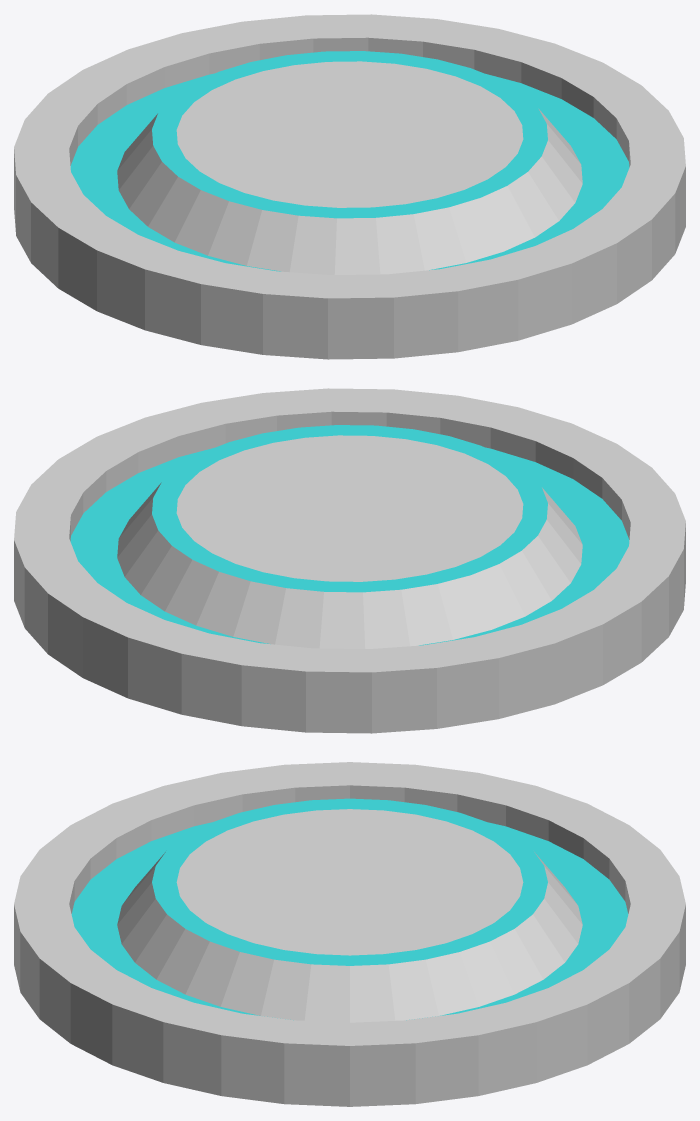
The model's file is Destination.fbx.
The picture shows the model from 3 angles, top to bottom: view 1: azimuth 30°, elevation 25°; view 2: azimuth 150°, elevation 25°; view 3: azimuth 270°, elevation 25°; orthographic projection.
Visible parts, largest first — view 1: 柱体; view 2: 柱体; view 3: 柱体.
Boxes of the visible parts, <box> form: 柱体: <box>14,14,685,359</box>; 柱体: <box>14,388,685,733</box>; 柱体: <box>14,762,685,1106</box>.
Size of the model in its own units: 100 by 13.57 by 100.
